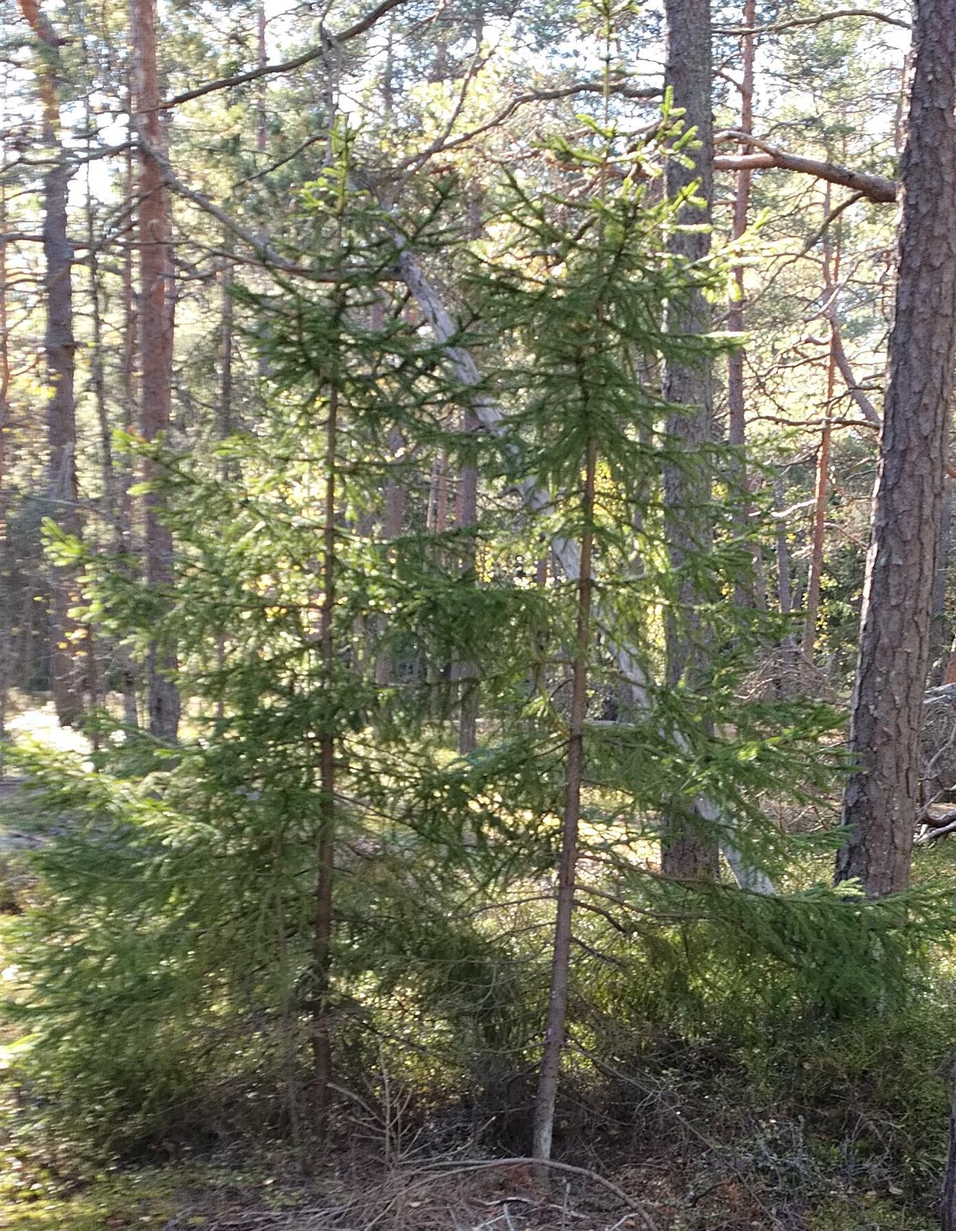Spruce: (412, 155, 790, 1215), (153, 140, 517, 1182)
